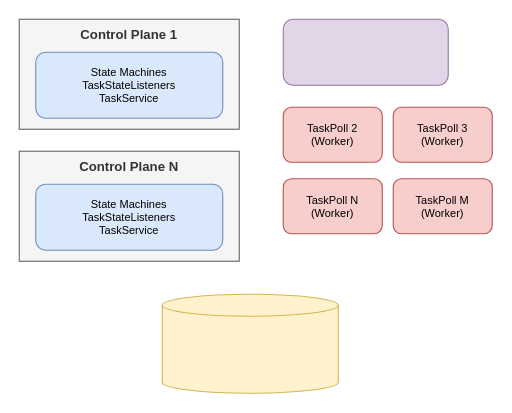
Some shapes in this 512 by 413 pixel diagram are drawn without their labels. Here are the shapes that lost their labels. From the top down, the centre of each, then its label:
the point at 365,51: TaskPollExecutor 1 (Poll every x ms) (SKIP LOCKED)
the point at 249,343: PostgreSQL (Shared) (edc_tasks) (WITH SKIP LOCKED) (Persistent)
